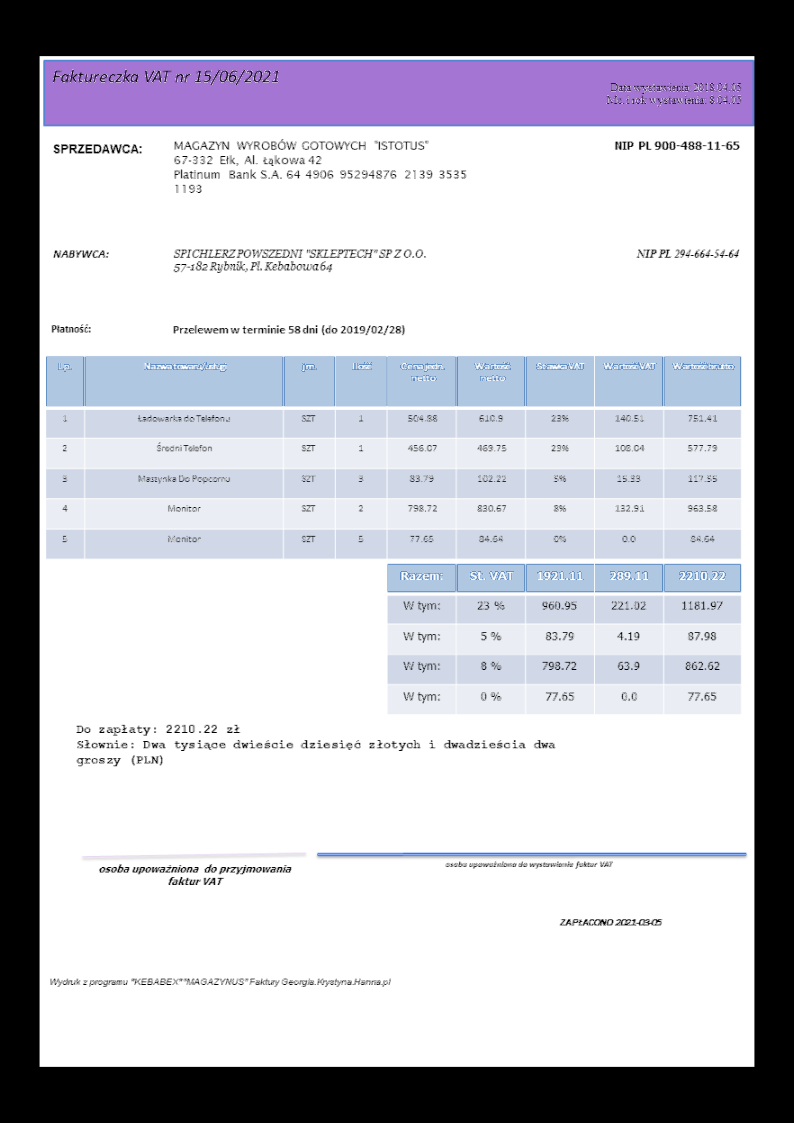Table: (44, 355, 743, 560), (386, 562, 743, 715)
TextBox: (74, 722, 559, 768), (171, 136, 469, 195), (172, 246, 428, 275), (96, 861, 294, 889), (47, 974, 393, 989), (51, 67, 281, 86), (605, 79, 744, 106), (171, 323, 406, 336), (611, 138, 741, 153), (443, 859, 615, 870), (51, 139, 144, 157), (635, 246, 740, 261), (557, 915, 662, 929), (51, 247, 111, 260), (50, 321, 93, 336)
